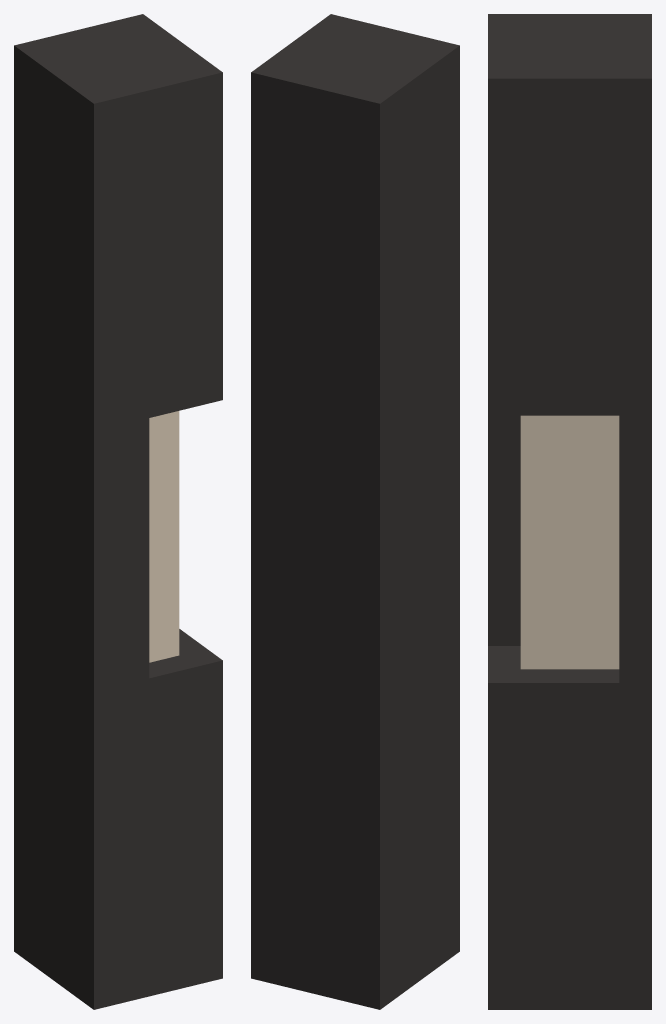
File: pillar.fbx
3 views of the same model, side by side, from view 1: azimuth 30°, elevation 25°; view 2: azimuth 150°, elevation 25°; view 3: azimuth 270°, elevation 25° (orthographic). The views are drawn at different scales.
Visible parts, largest first — view 1: pillar; view 2: pillar; view 3: pillar.
Boxes of the visible parts, bbox=[...] form: pillar: bbox=[14, 14, 222, 1009]; pillar: bbox=[251, 14, 459, 1009]; pillar: bbox=[488, 14, 651, 1009].
Bounding box in the file's own units: 140 × 940 × 150.
